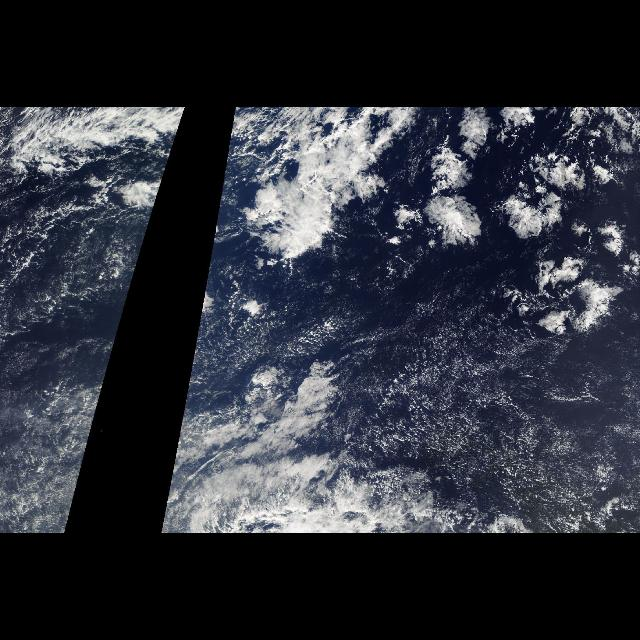Flower: (422, 113, 640, 317)
Sugar: (388, 328, 640, 514)
